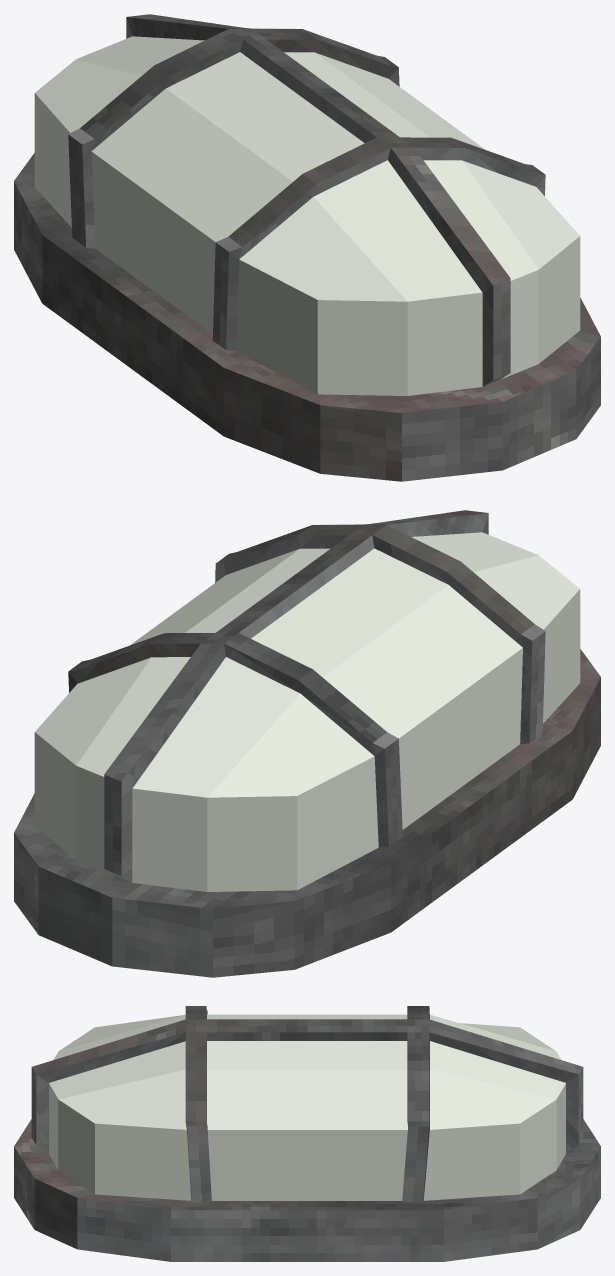
File: BigLamp.glb
3 renders of one model, top to bottom at view 1: azimuth 30°, elevation 25°; view 2: azimuth 150°, elevation 25°; view 3: azimuth 270°, elevation 25°, orthographic. The views are drawn at different scales.
Parts seen in each view (by area): view 1: Cube.018; view 2: Cube.018; view 3: Cube.018.
Part boxes in pixels (x1,y1,x2,y2): Cube.018: [14, 14, 600, 481]; Cube.018: [14, 510, 600, 977]; Cube.018: [14, 1006, 600, 1261].
Size of the model in its own units: 1.41 by 0.9245 by 2.74.
1 material, 1 textured.
